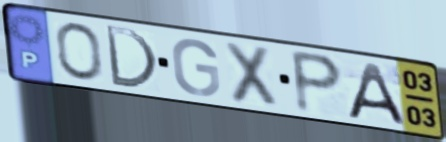A: (344, 61, 408, 127)
D: (102, 22, 161, 92)
G: (169, 37, 223, 98)
O: (53, 20, 106, 84)
P: (288, 47, 346, 117)
X: (221, 38, 281, 111)
